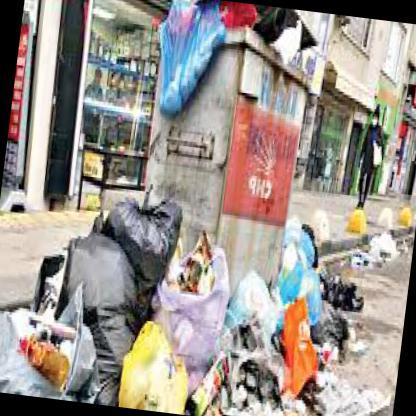Garbage: (45, 190, 183, 408), (0, 272, 182, 410), (104, 226, 214, 414), (188, 270, 268, 415), (147, 0, 227, 116), (262, 244, 324, 372), (304, 367, 388, 415)
